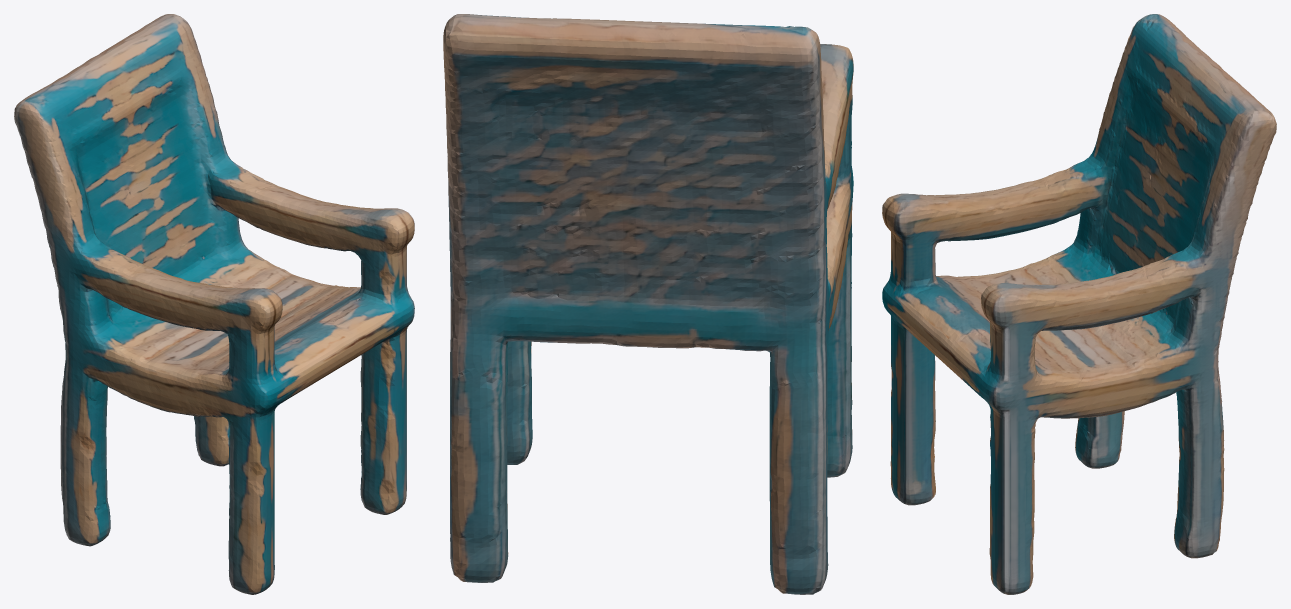
The model's file is chair_t1.glb.
The picture shows the model from 3 angles, left to right: view 1: azimuth 30°, elevation 25°; view 2: azimuth 150°, elevation 25°; view 3: azimuth 270°, elevation 25°; orthographic projection. The views are drawn at different scales.
Parts seen in each view (by area): view 1: world; view 2: world; view 3: world.
Boxes of the visible parts, bbox=[...] form: world: bbox=[14, 14, 414, 594]; world: bbox=[443, 14, 853, 594]; world: bbox=[882, 14, 1276, 594].
Size of the model in its own units: 0.7786 by 1 by 0.8215.
